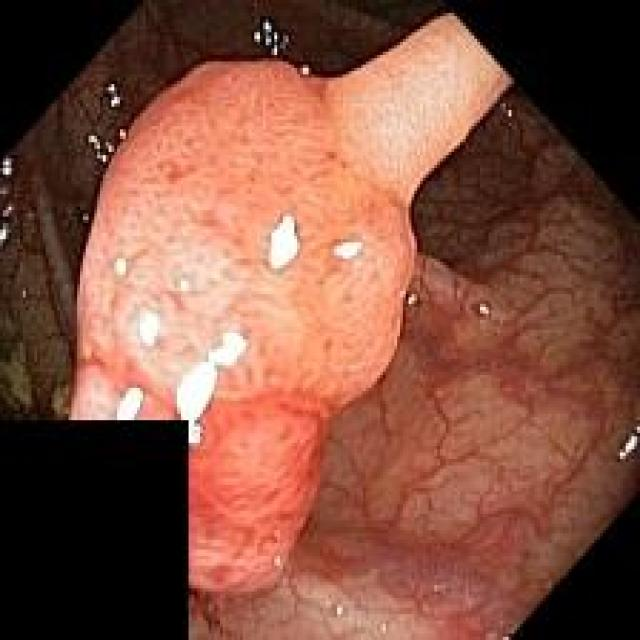Polyps: (71, 16, 511, 593)
